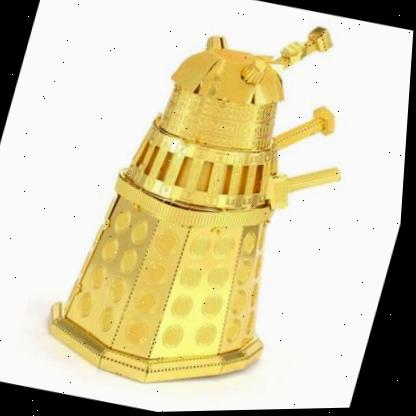dalek: (20, 0, 382, 415)
